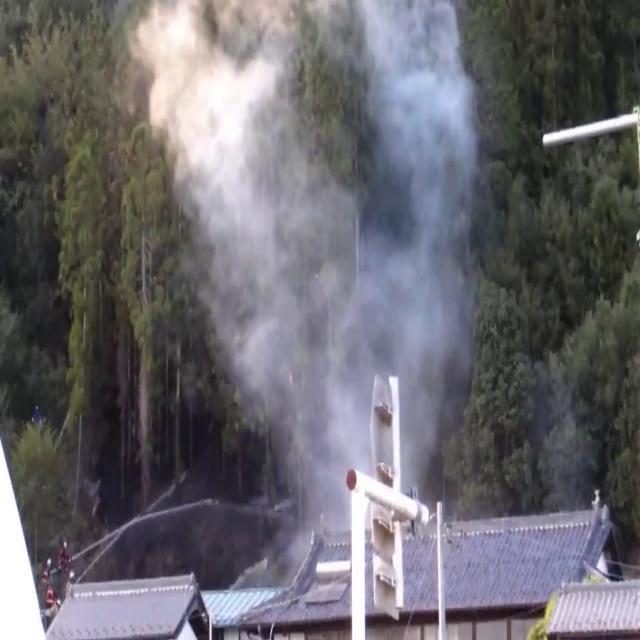Smoke: (96, 0, 488, 521)
